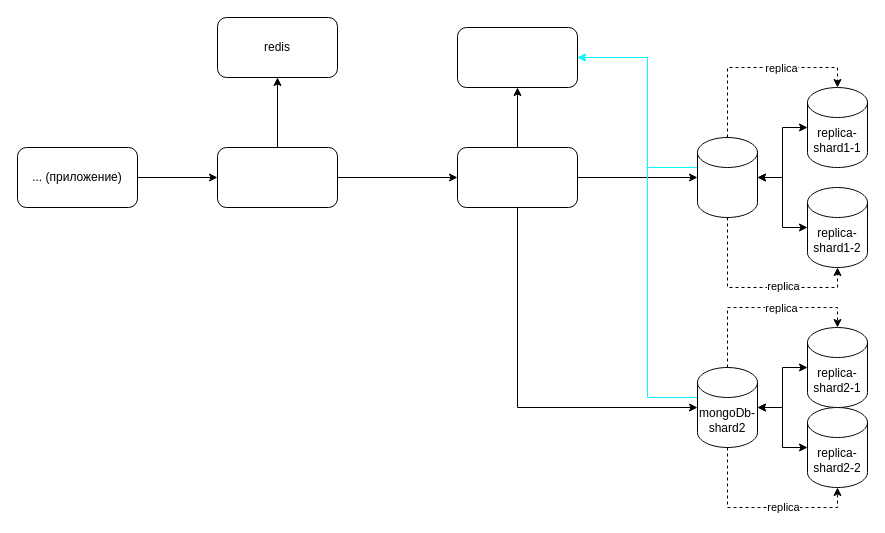
Image size: 885x533. Some labels were removed from this diagram. Here are the shapes that lost their labels. From the top down, the centre of each, then its label:
At (517,57): "configSrv".
At (277,177): "pymongo-api".
At (517,177): "router".
At (727,177): "mongoDb-shard1".
